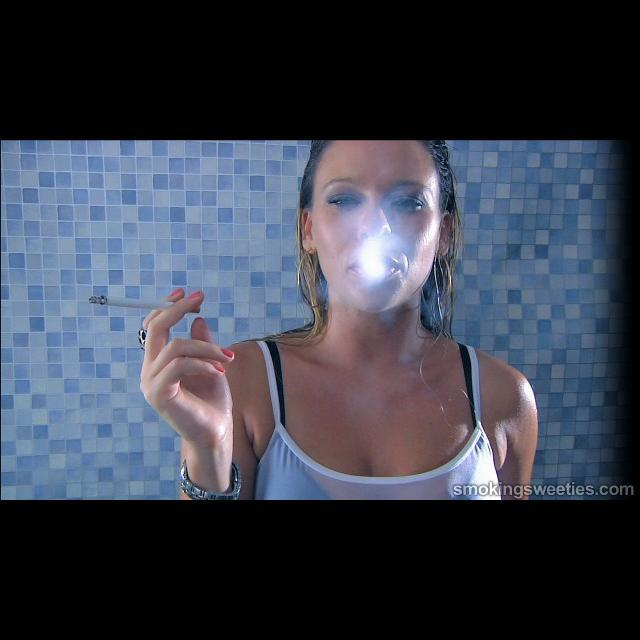rokok: (84, 292, 198, 316)
